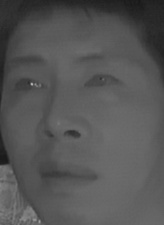eye: (81, 69, 119, 96), (11, 73, 48, 97)
mouth: (33, 154, 97, 196)
